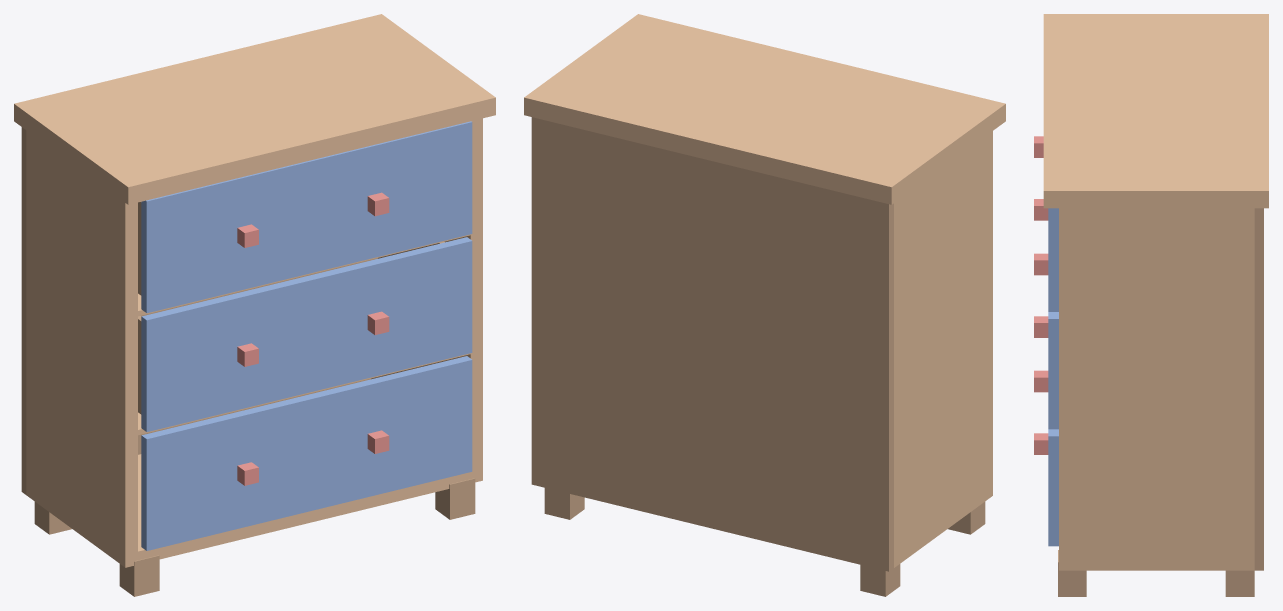
The model's file is dresserCandy.glb.
3 views of the same model, side by side, from view 1: azimuth 30°, elevation 25°; view 2: azimuth 150°, elevation 25°; view 3: azimuth 270°, elevation 25° (orthographic).
Visible parts, largest first — view 1: dresserCandy, anim:drawer2, anim:drawer1; view 2: dresserCandy; view 3: dresserCandy, anim:drawer2, anim:drawer1.
Boxes of the visible parts, x1,y1,x2,y2 form: dresserCandy: (14, 14, 495, 596); anim:drawer2: (138, 237, 472, 431); anim:drawer1: (138, 121, 472, 313); dresserCandy: (524, 14, 1005, 596); dresserCandy: (1034, 14, 1268, 596); anim:drawer2: (1034, 253, 1058, 429); anim:drawer1: (1034, 136, 1058, 311).
Size of the model in its own units: 0.437 by 0.475 by 0.245.
